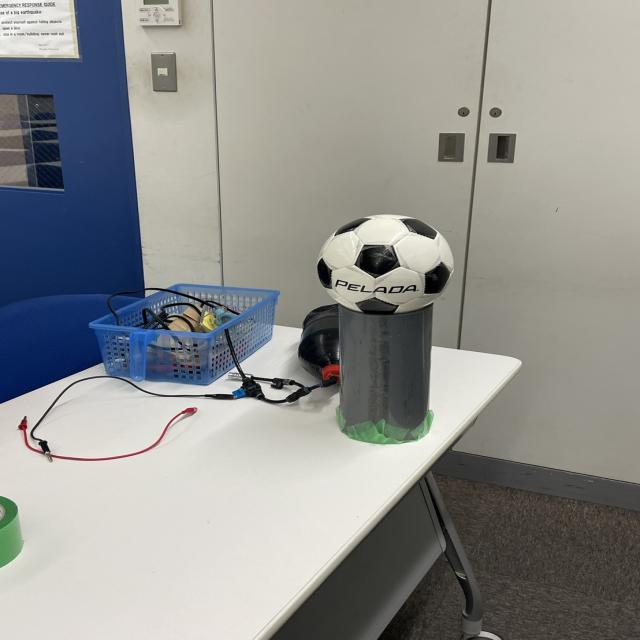ball: (314, 213, 452, 311)
